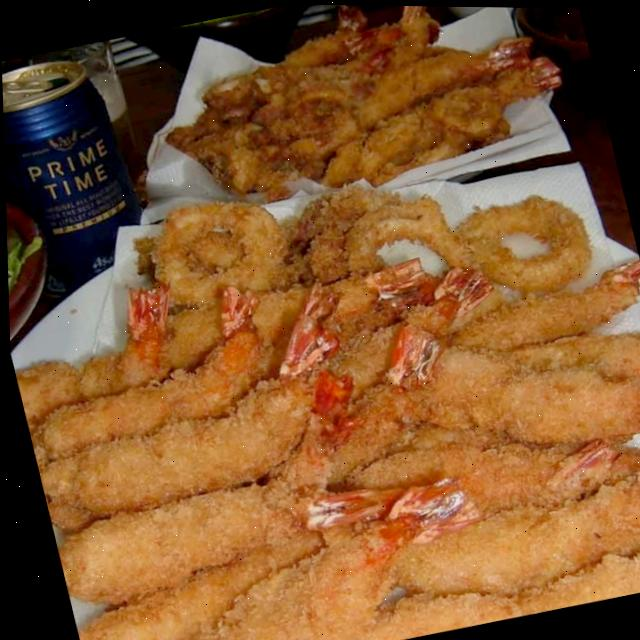炸货点心: (4, 177, 640, 640)
熟制海鲜: (4, 177, 640, 640)
